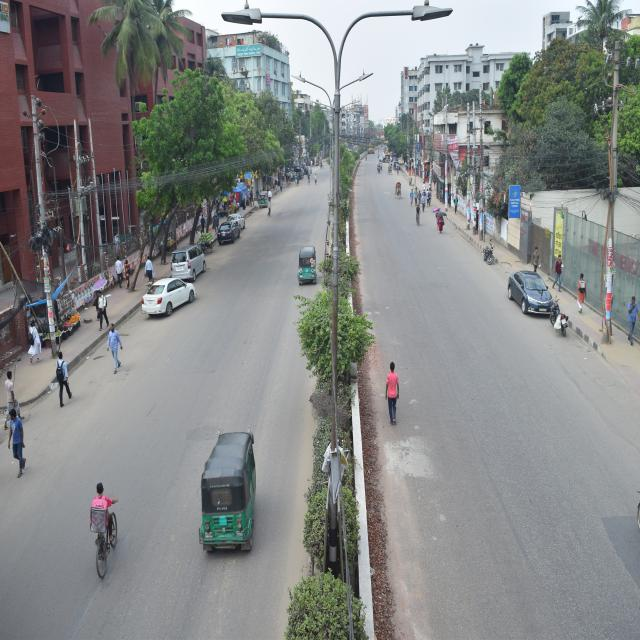car: (137, 278, 197, 327), (506, 266, 556, 323), (220, 214, 241, 246), (223, 211, 250, 235)
microbus: (169, 238, 213, 290)
motorbike: (543, 300, 577, 345)
